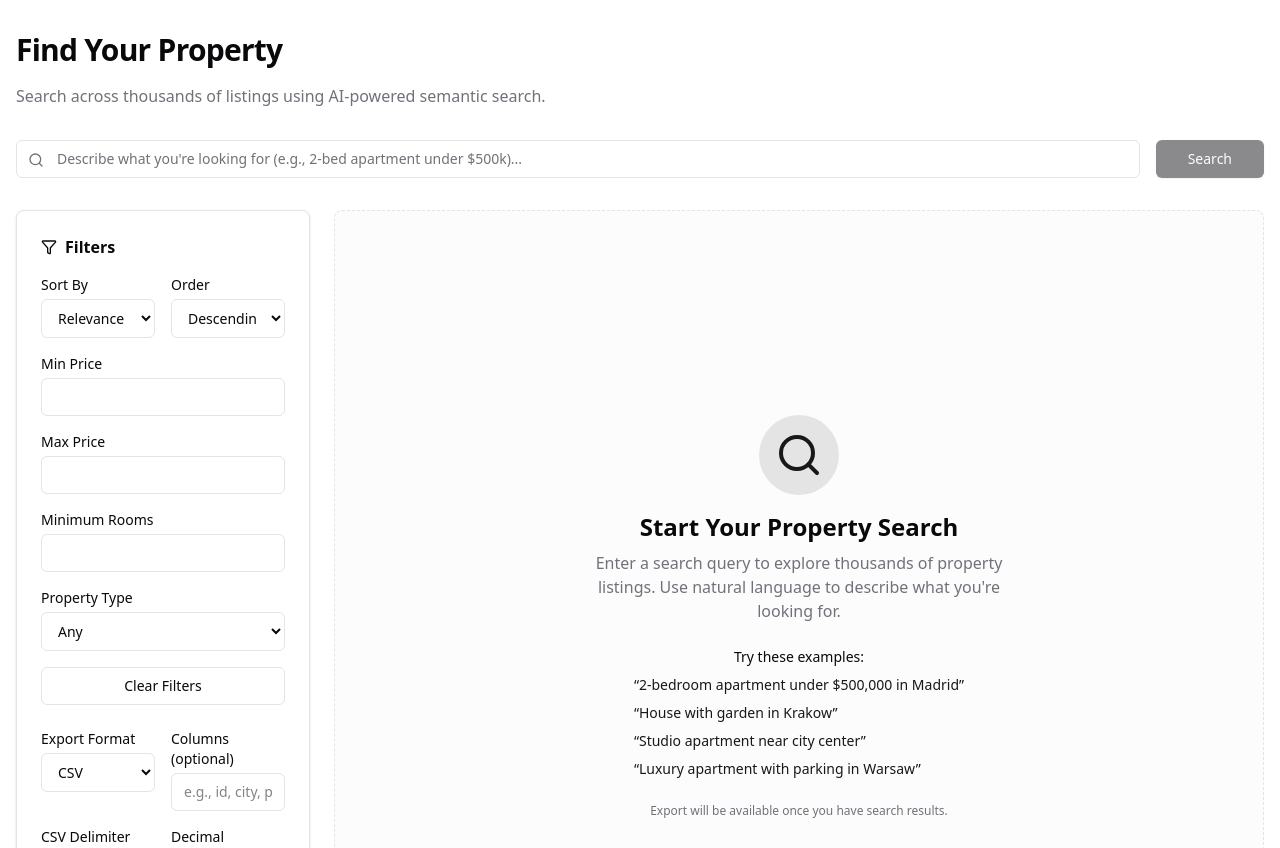
Scenario: SearchPage › validates min and max price before searching
The width and height of the screenshot is (1280, 848).
Replace the text in the field named "Search query" with "Test" at coordinates (578, 159), box 16,140 -> 1140,178
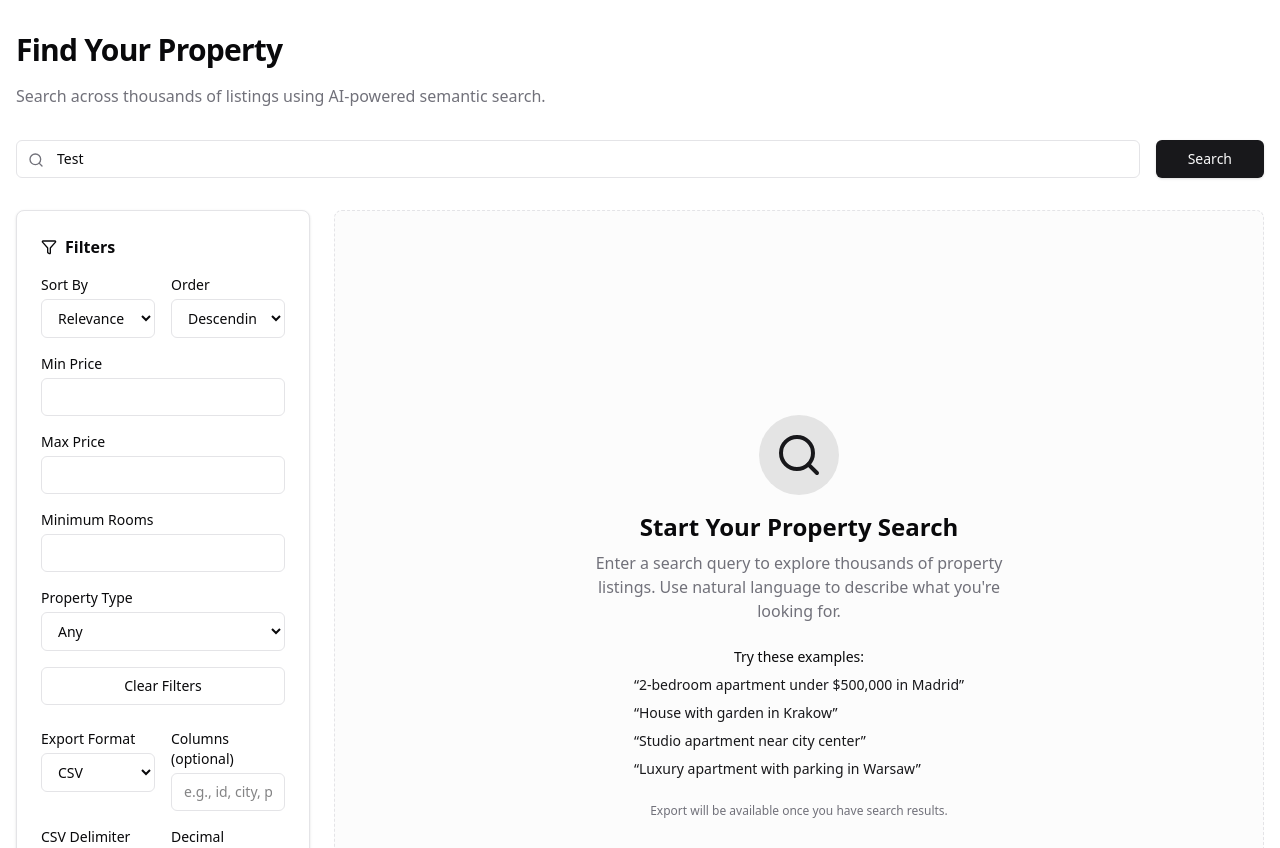
Type "300" into the number field labelled "Min Price".
click(163, 397); type("300")  # box 41,378 -> 285,416
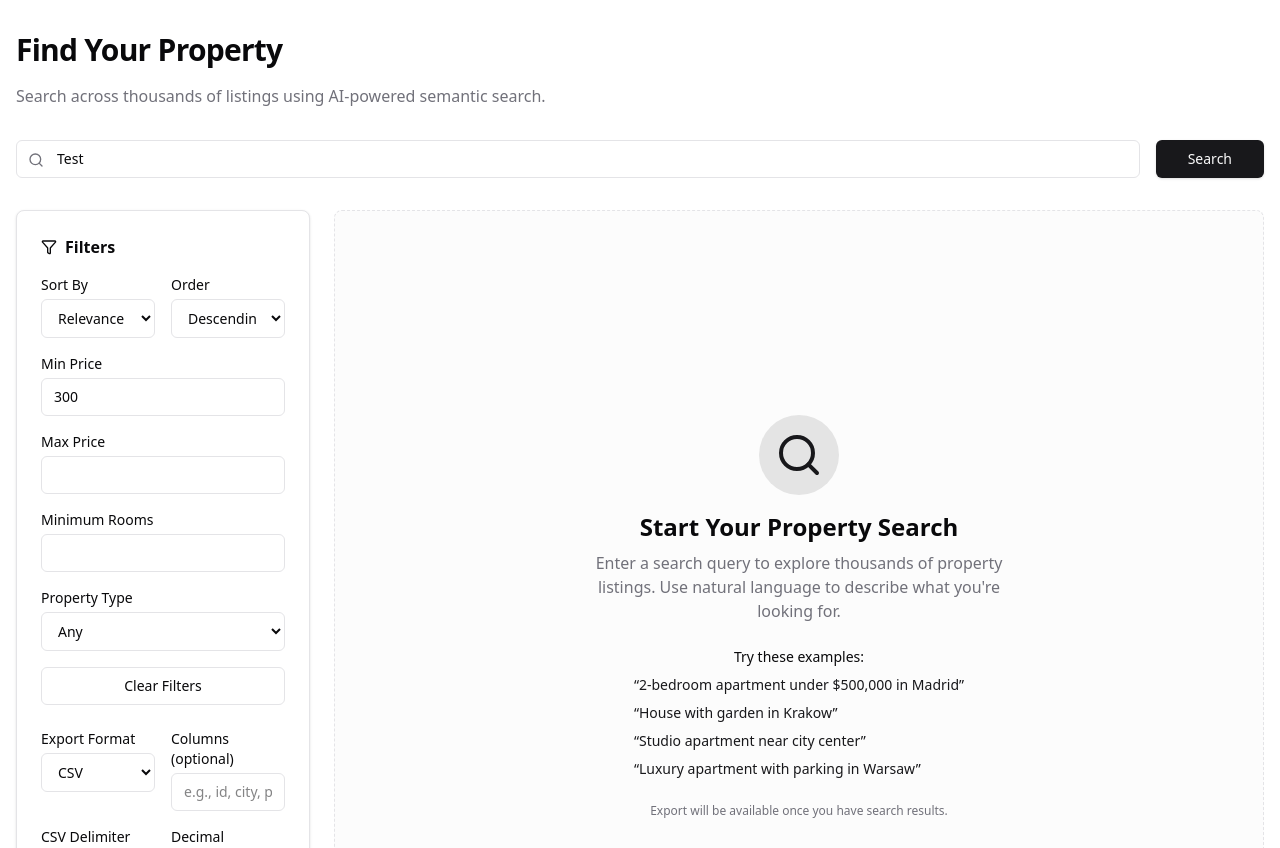
Type "200" into the number field labelled "Max Price".
click(163, 475); type("200")  # box 41,456 -> 285,494
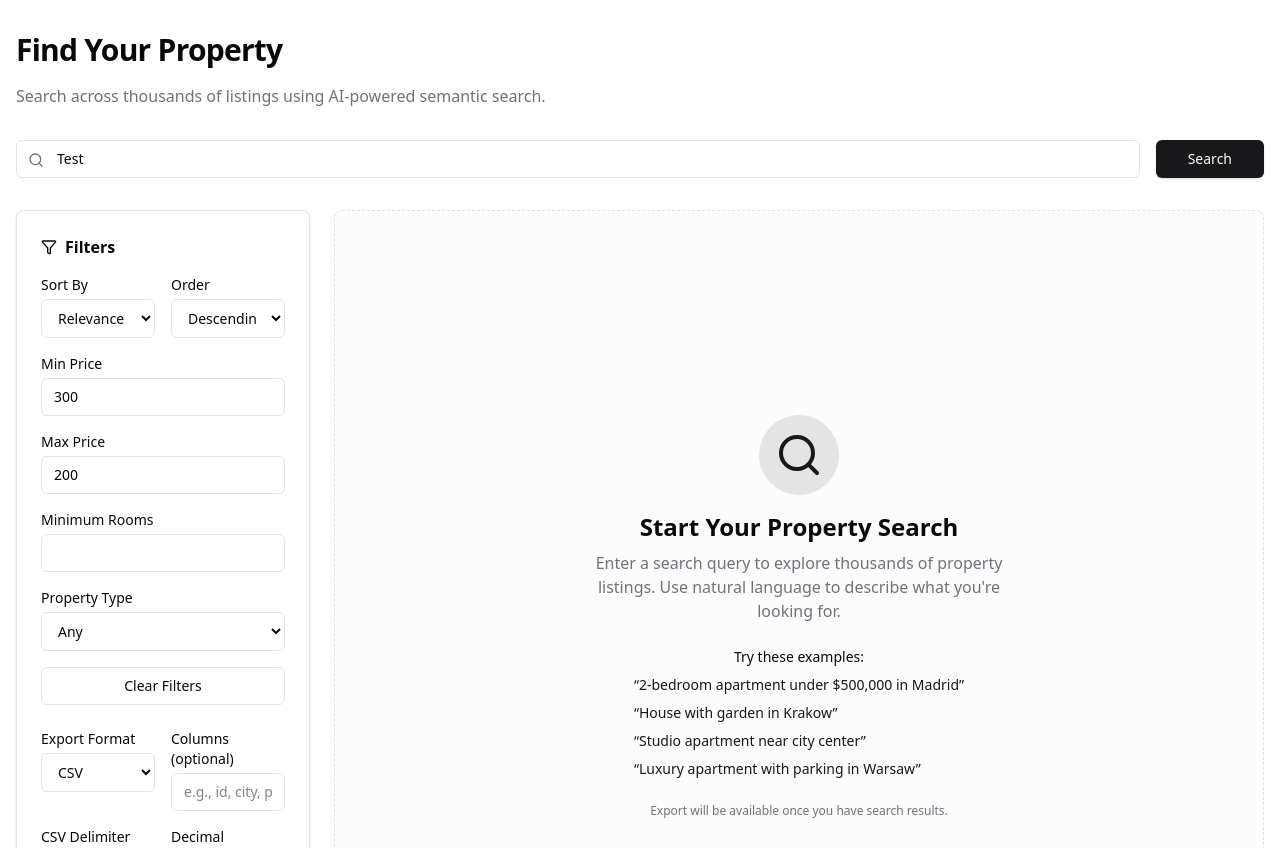
Click the button "Search".
click(1210, 159)  # box 1156,140 -> 1264,178
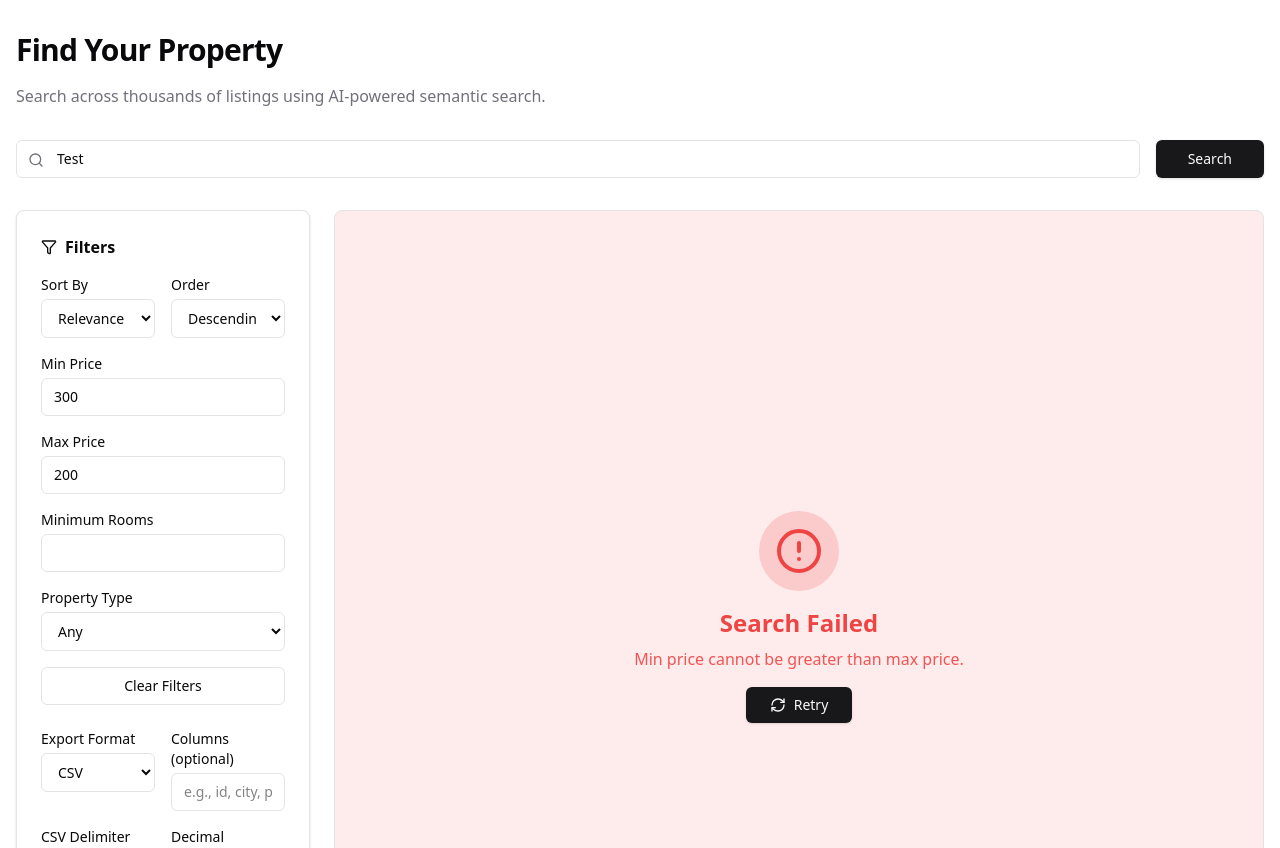
Check: the text "Min price cannot be greater than max price." is shown, box 634,646 -> 964,670
